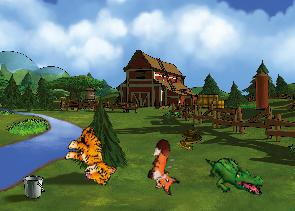crocodile: (203, 156, 265, 196)
fox: (141, 137, 190, 197)
tiger: (58, 122, 127, 189)
